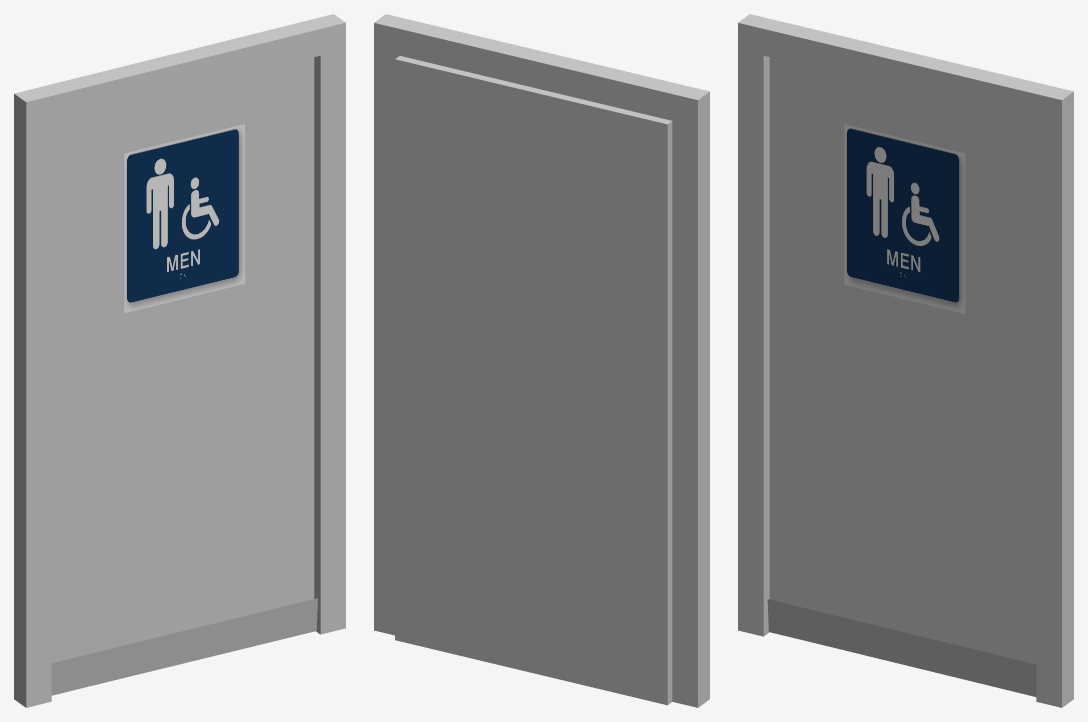
The model's file is Men_s_bathroom_door.FBX.
3 views of the same model, side by side, from view 1: azimuth 30°, elevation 25°; view 2: azimuth 150°, elevation 25°; view 3: azimuth 330°, elevation 25° (orthographic).
Visible parts, largest first — view 1: Men's door, Plane004, Plane002; view 2: Men's door; view 3: Men's door, Plane004, Plane002.
Boxes of the visible parts, <box> form: Men's door: <box>14,14,345,707</box>; Plane004: <box>124,124,244,312</box>; Plane002: <box>51,598,317,695</box>; Men's door: <box>374,14,709,707</box>; Men's door: <box>738,14,1073,707</box>; Plane004: <box>844,124,965,313</box>; Plane002: <box>767,599,1036,696</box>.
Size of the model in its own units: 25.21 by 45.38 by 2.48.
